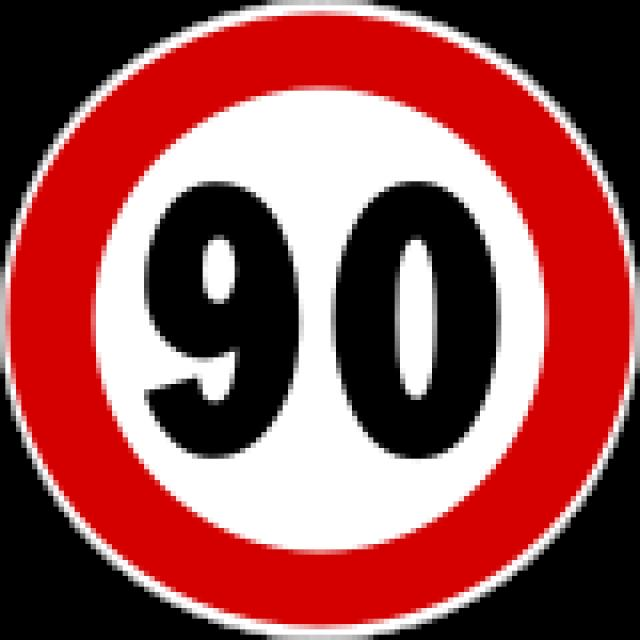Speed Limit -90-: (134, 182, 507, 465)
